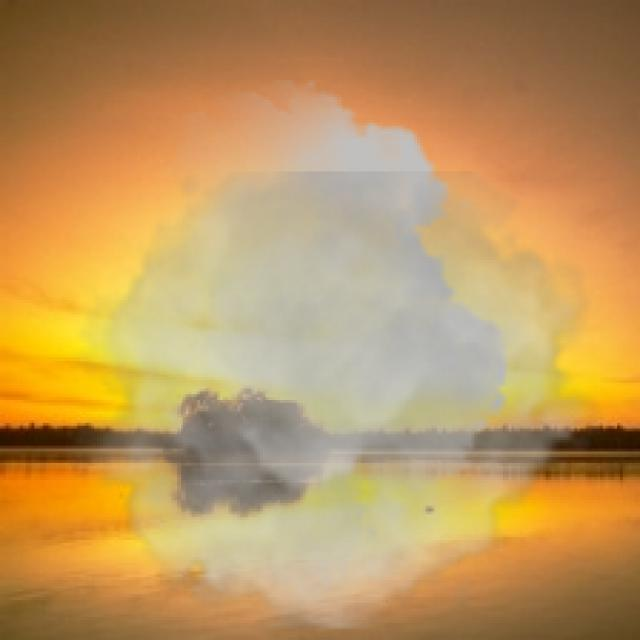smoke: (66, 80, 608, 629)
